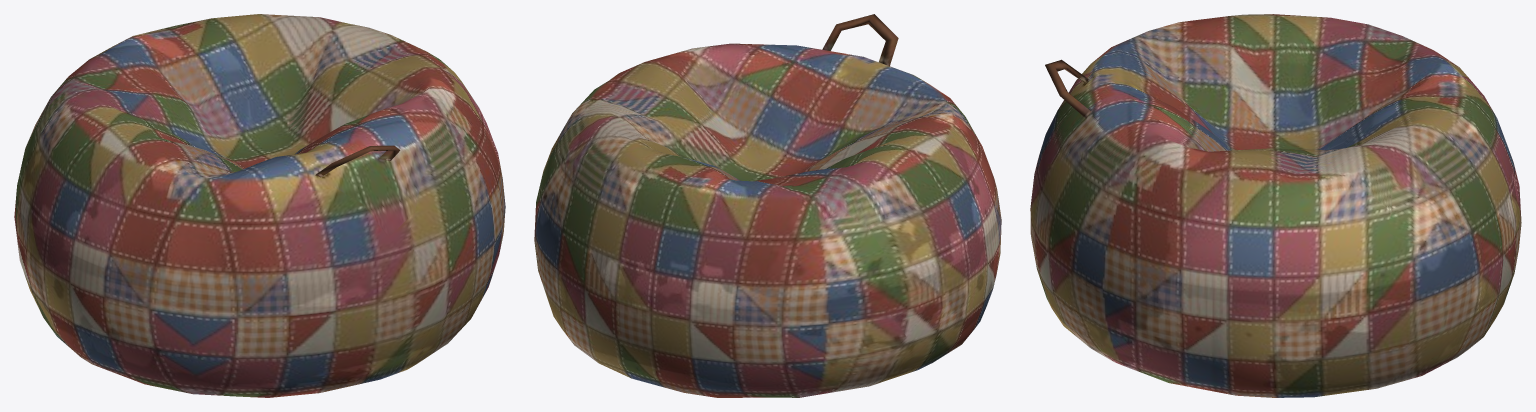
Rendered from bean_patch.glb.
3 renders of one model, left to right at view 1: azimuth 30°, elevation 25°; view 2: azimuth 150°, elevation 25°; view 3: azimuth 270°, elevation 25°, orthographic. The views are drawn at different scales.
Visible parts, largest first — view 1: prop_bean_patch_felt; view 2: prop_bean_patch_felt; view 3: prop_bean_patch_felt.
Part boxes in pixels (<box>): prop_bean_patch_felt: <box>14,14,505,397</box>; prop_bean_patch_felt: <box>534,14,1001,397</box>; prop_bean_patch_felt: <box>1030,14,1521,397</box>.
Size of the model in its own units: 1.19 by 0.6468 by 1.16.
Materials: 1 (1 with a texture image).
